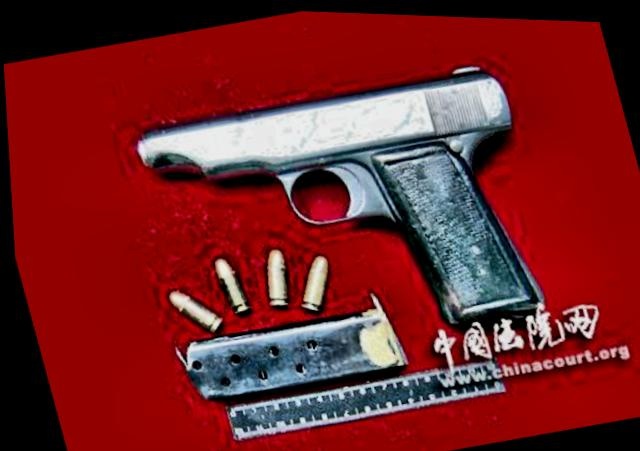pistol: (119, 42, 564, 385)
